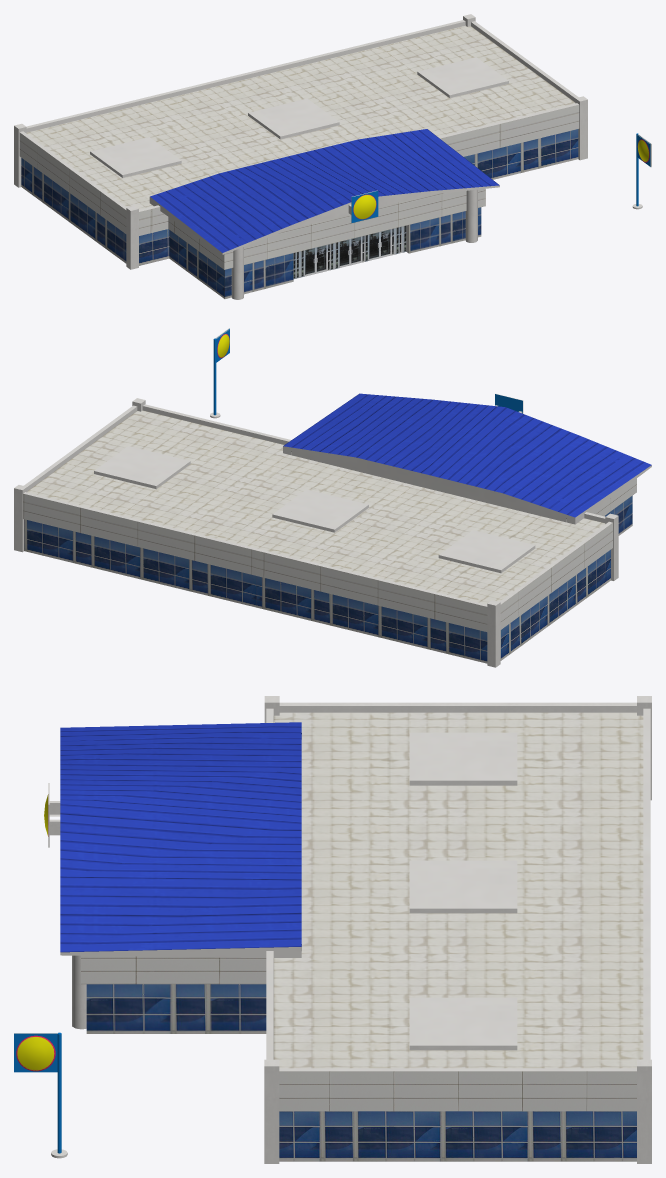
Rendered from uksupermarket4.FBX.
3 renders of one model, top to bottom at view 1: azimuth 30°, elevation 25°; view 2: azimuth 150°, elevation 25°; view 3: azimuth 270°, elevation 25°, orthographic. The views are drawn at different scales.
Visible parts, largest first — view 1: Box002; view 2: Box002; view 3: Box002.
Part boxes in pixels (x1,y1,x2,y2): Box002: [14, 14, 651, 299]; Box002: [14, 328, 651, 667]; Box002: [14, 696, 651, 1163].
Size of the model in its own units: 122 by 88.53 by 21.09.
